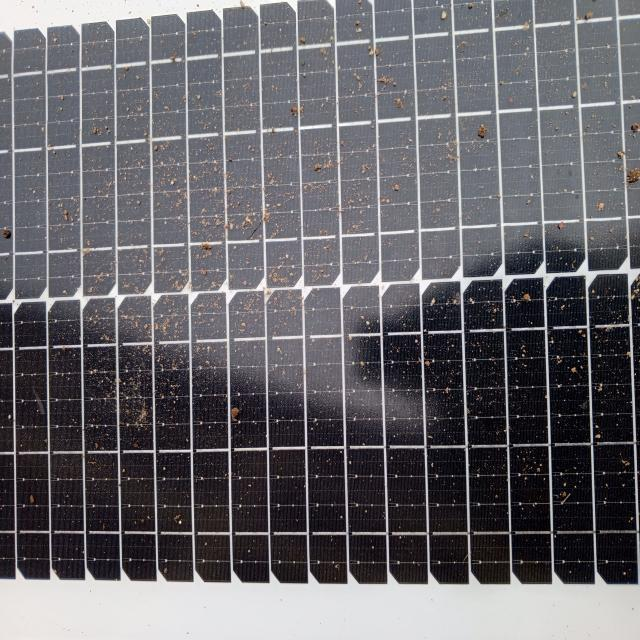Surface Contaminant: (8, 10, 639, 575)
